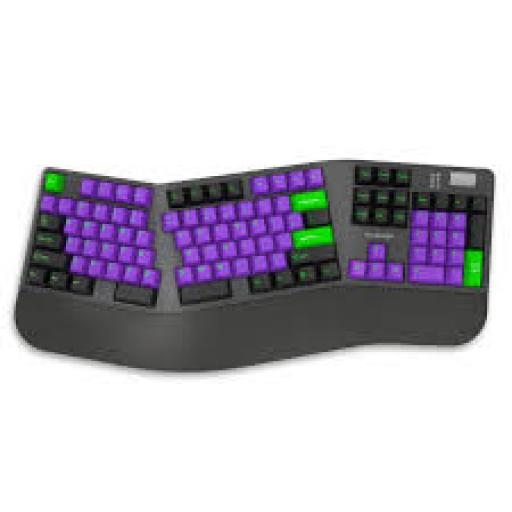keyboard: (16, 160, 492, 368)
